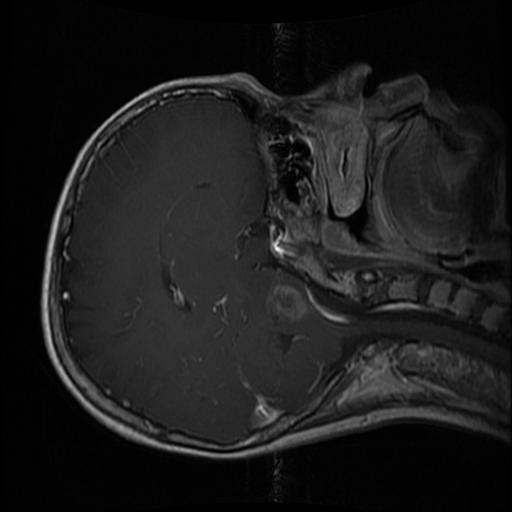glioma: (270, 283, 307, 324)
